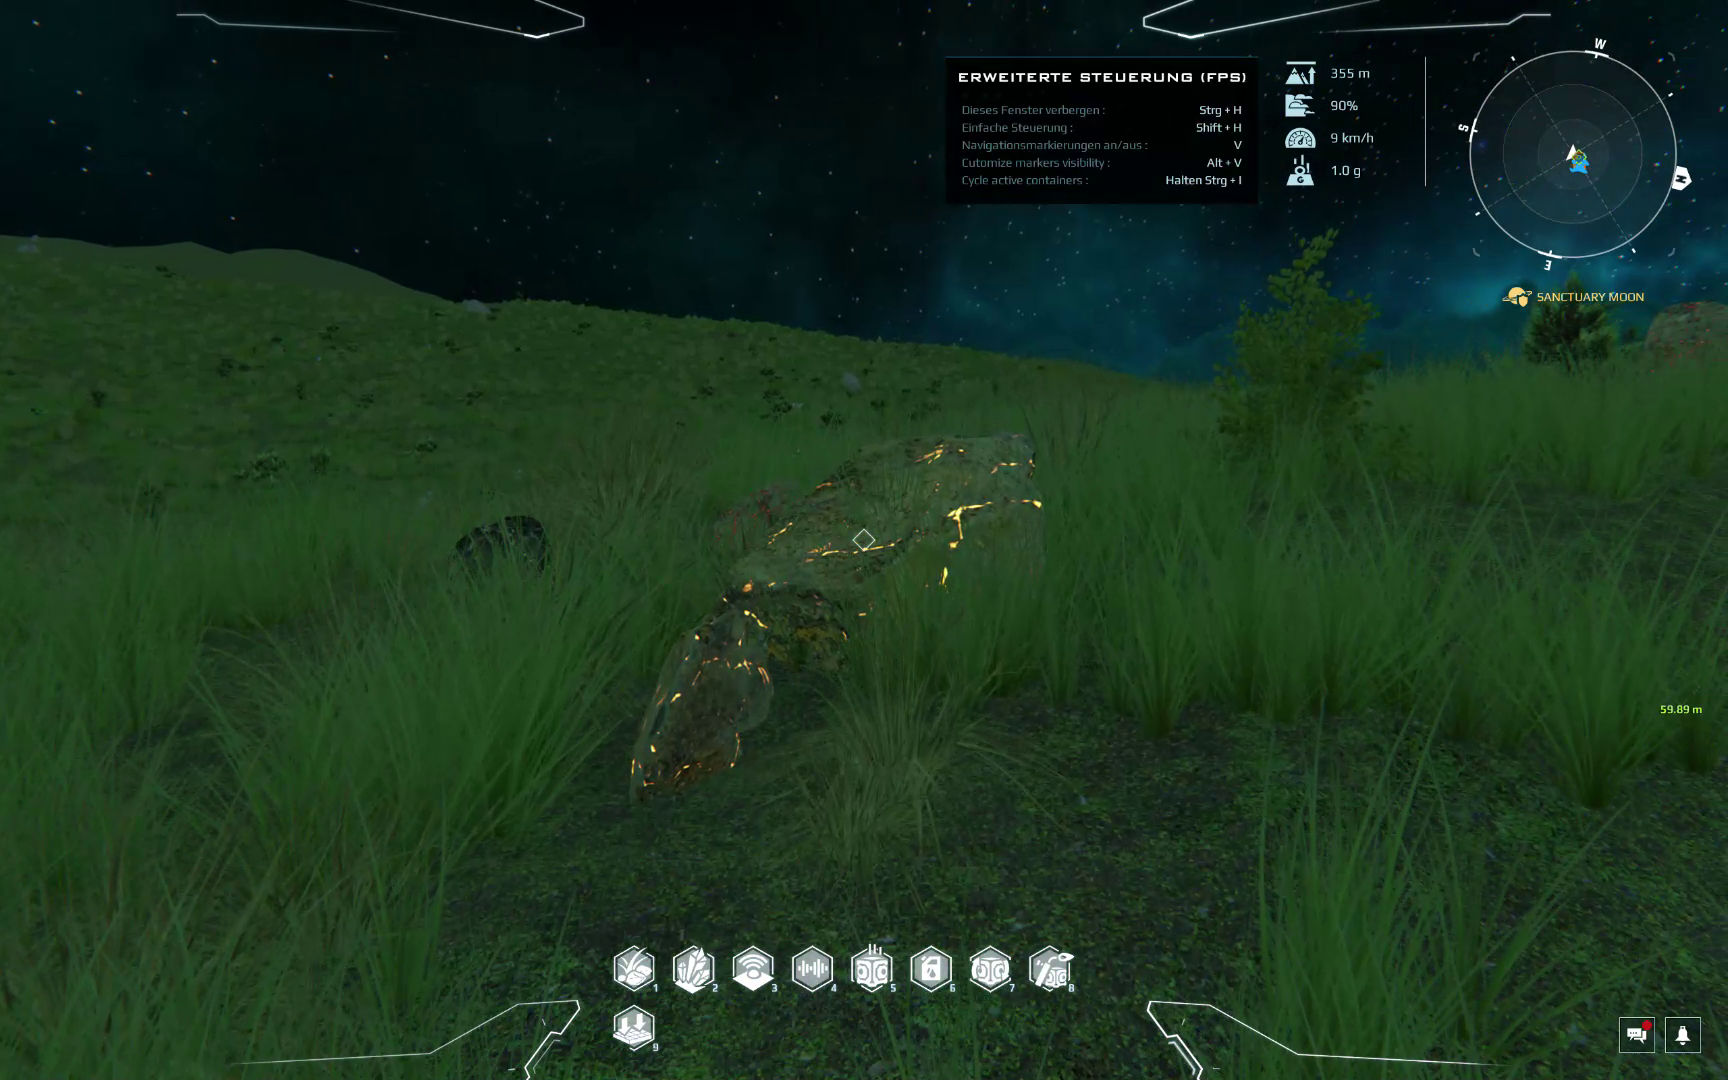Ore: (724, 432, 1050, 653), (618, 597, 783, 798), (452, 511, 554, 585), (710, 486, 801, 557)
